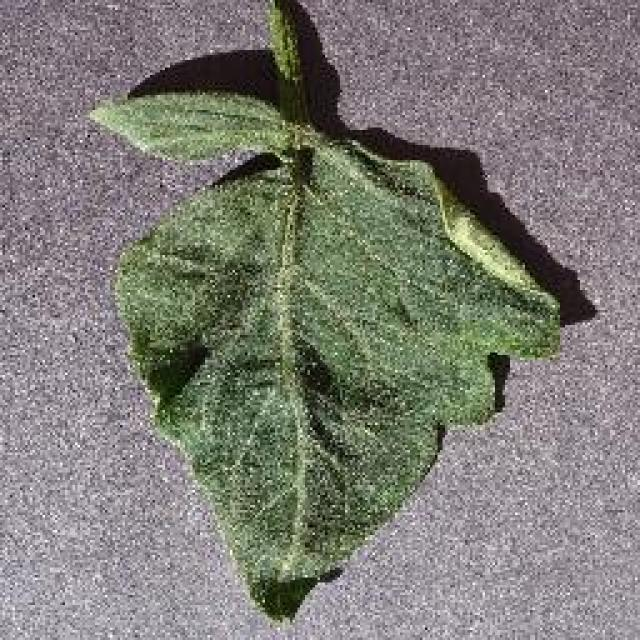Tomato___healthy: (80, 0, 561, 628)
